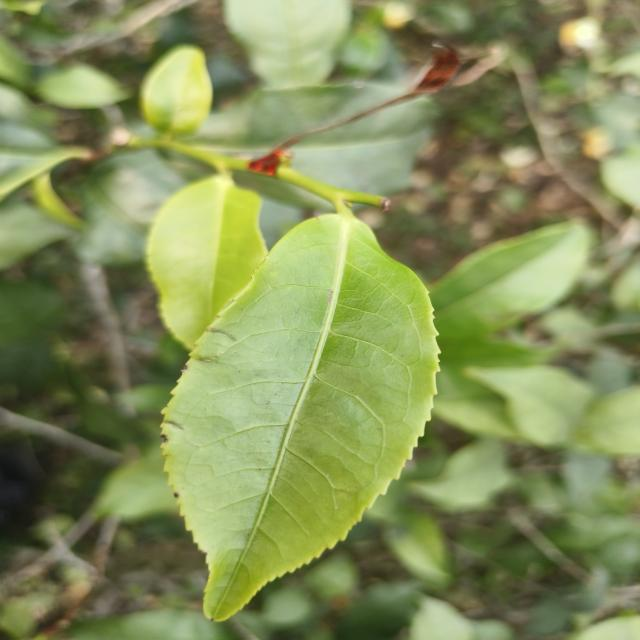Leaf: (161, 208, 438, 621), (147, 174, 267, 349), (430, 222, 591, 338), (184, 83, 398, 157), (292, 97, 435, 195), (223, 0, 351, 88), (468, 365, 594, 446), (411, 439, 512, 511), (140, 45, 213, 136), (94, 448, 177, 520), (385, 510, 450, 588), (0, 202, 74, 269), (337, 582, 422, 640), (573, 386, 640, 455), (36, 63, 127, 109), (267, 186, 328, 209)
